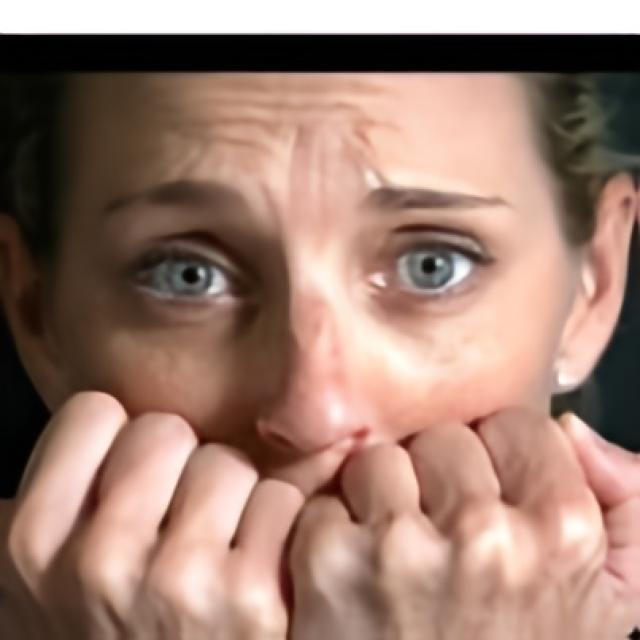fear: (49, 71, 574, 640)
